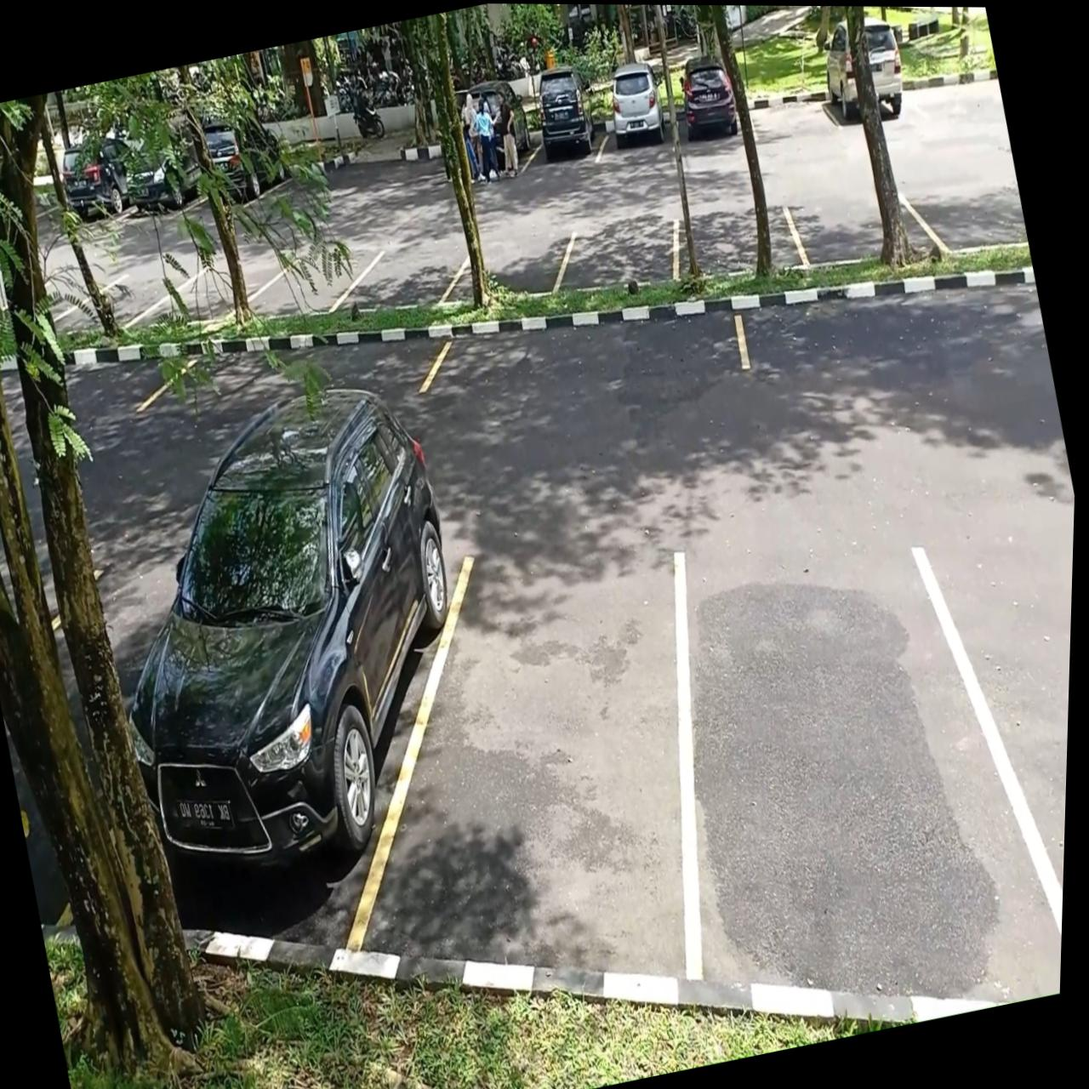cars: (56, 491, 470, 965), (819, 87, 930, 128), (522, 126, 609, 171), (674, 103, 756, 149), (597, 117, 677, 162)
empty: (681, 555, 1062, 993), (348, 560, 693, 998), (424, 302, 746, 390), (140, 331, 454, 409), (123, 259, 298, 329), (786, 196, 948, 266), (225, 253, 382, 321), (676, 207, 808, 281), (440, 234, 575, 306), (54, 267, 208, 329), (554, 222, 677, 293), (330, 253, 470, 313), (747, 96, 840, 139)
